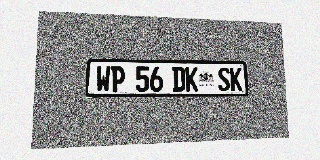5: (136, 66, 149, 92)
6: (150, 67, 163, 92)
D: (172, 67, 185, 91)
K: (185, 67, 198, 91), (230, 67, 242, 91)
P: (111, 66, 125, 92)
S: (218, 67, 230, 91)
W: (96, 66, 111, 92)
